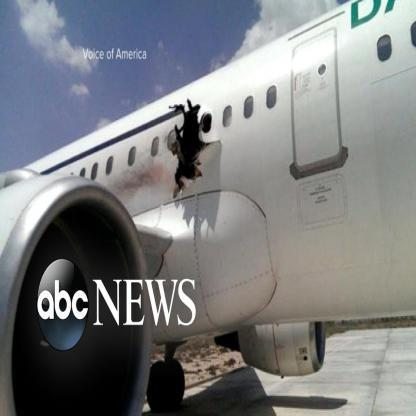CIV_Plane: (0, 0, 414, 414)
